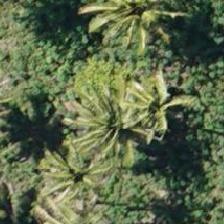coconut_tree: (82, 53, 172, 143), (89, 0, 179, 48), (33, 177, 123, 223)
